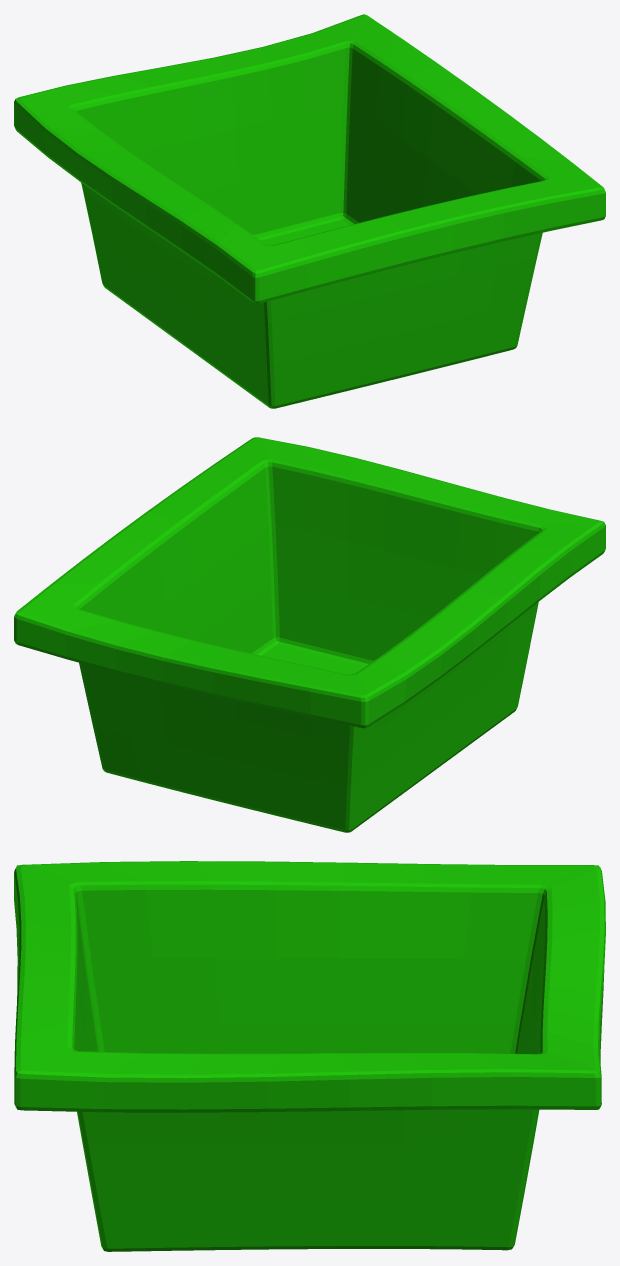
The model's file is SM_Sink.FBX.
3 renders of one model, top to bottom at view 1: azimuth 30°, elevation 25°; view 2: azimuth 150°, elevation 25°; view 3: azimuth 270°, elevation 25°, orthographic. The views are drawn at different scales.
Parts seen in each view (by area): view 1: Object008; view 2: Object008; view 3: Object008.
Part boxes in pixels (x1=…): Object008: x1=14, y1=14, x2=605, y2=408; Object008: x1=14, y1=437, x2=605, y2=832; Object008: x1=14, y1=861, x2=605, y2=1251.
Size of the model in its own units: 83.86 by 39.74 by 97.31.
